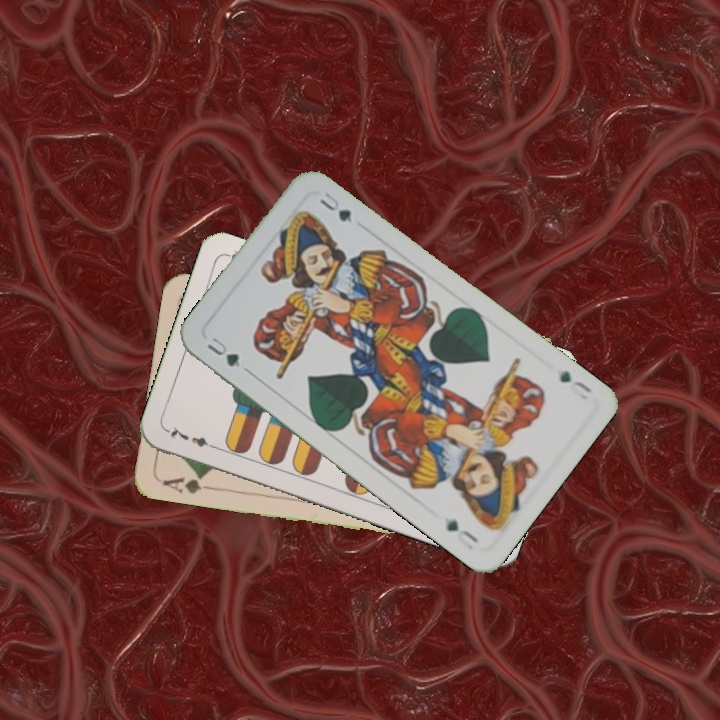E7: (163, 422, 220, 452)
GA: (158, 470, 217, 497)
GU: (202, 333, 243, 370), (555, 366, 595, 403)
